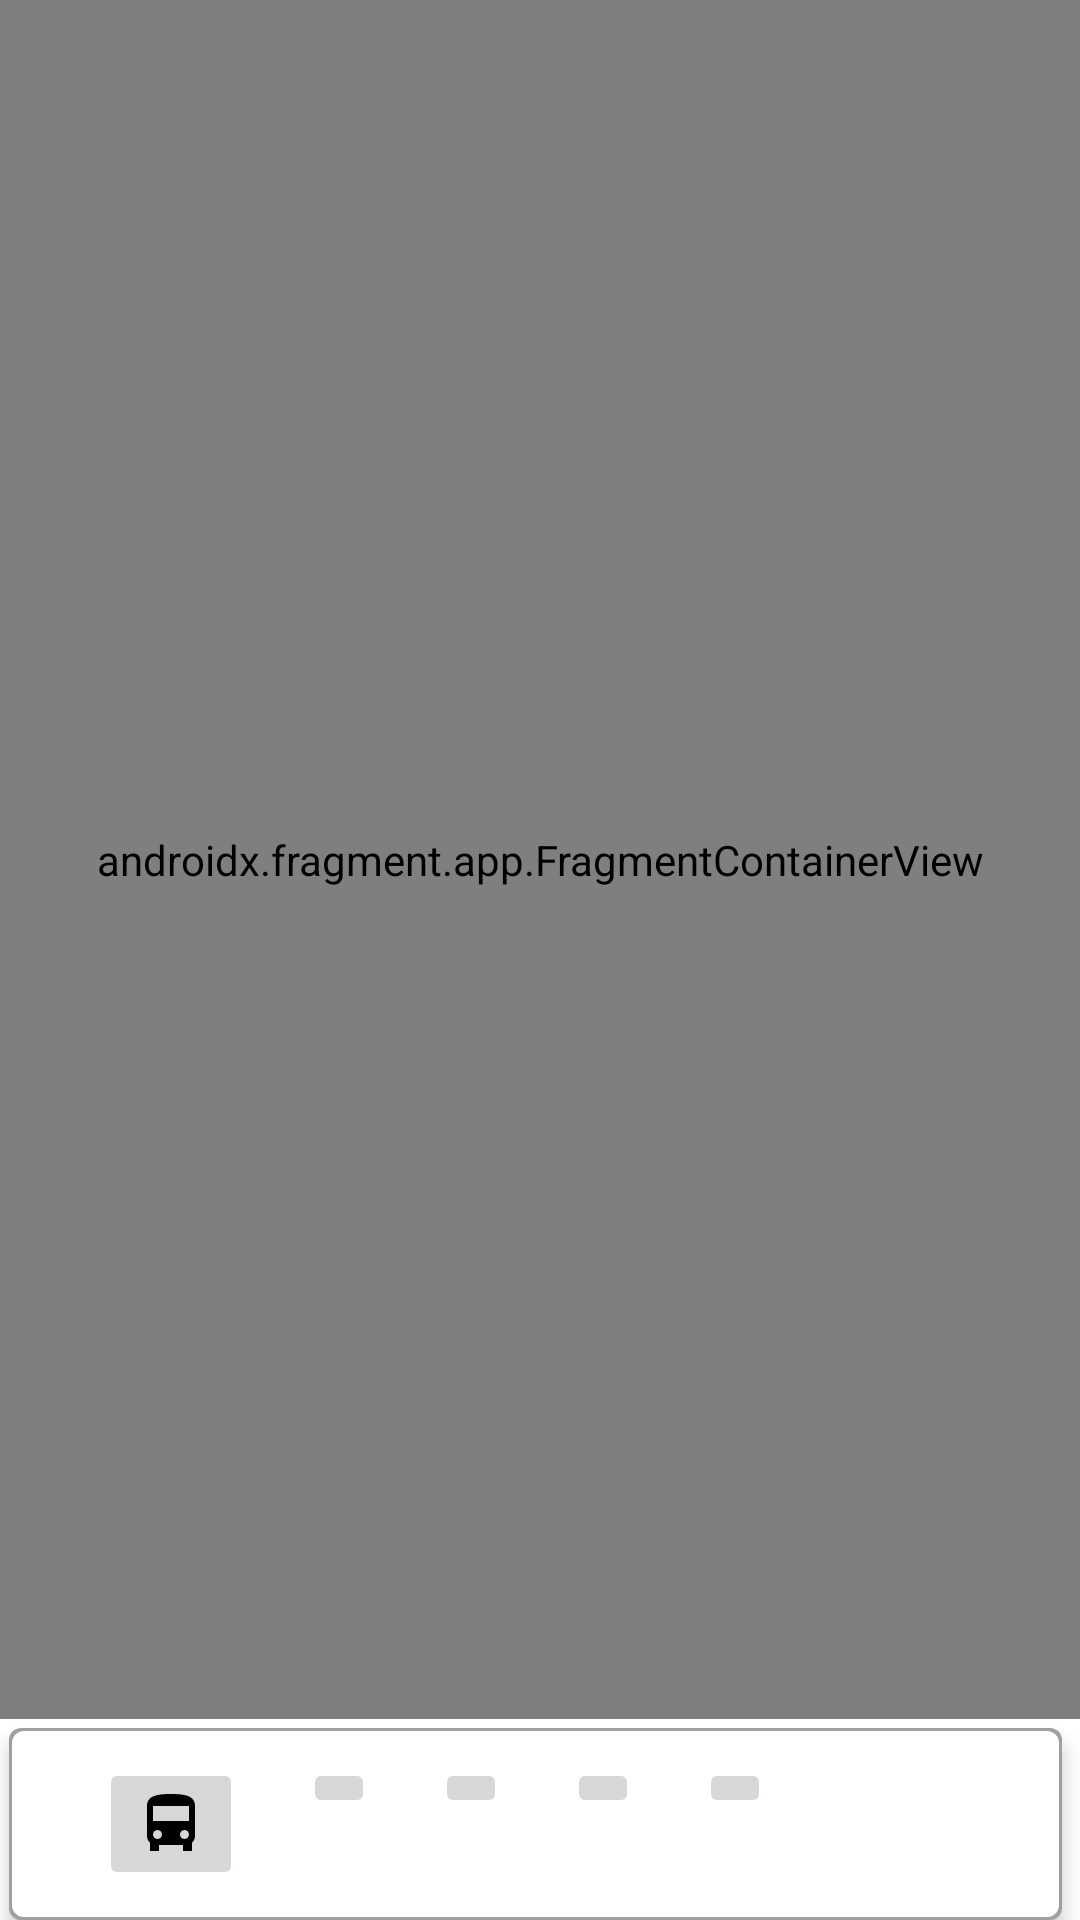

Screen size 1080 × 1920. Icon name, then its center in pixels as point (x, y):
directions bus: point (171, 1824)
